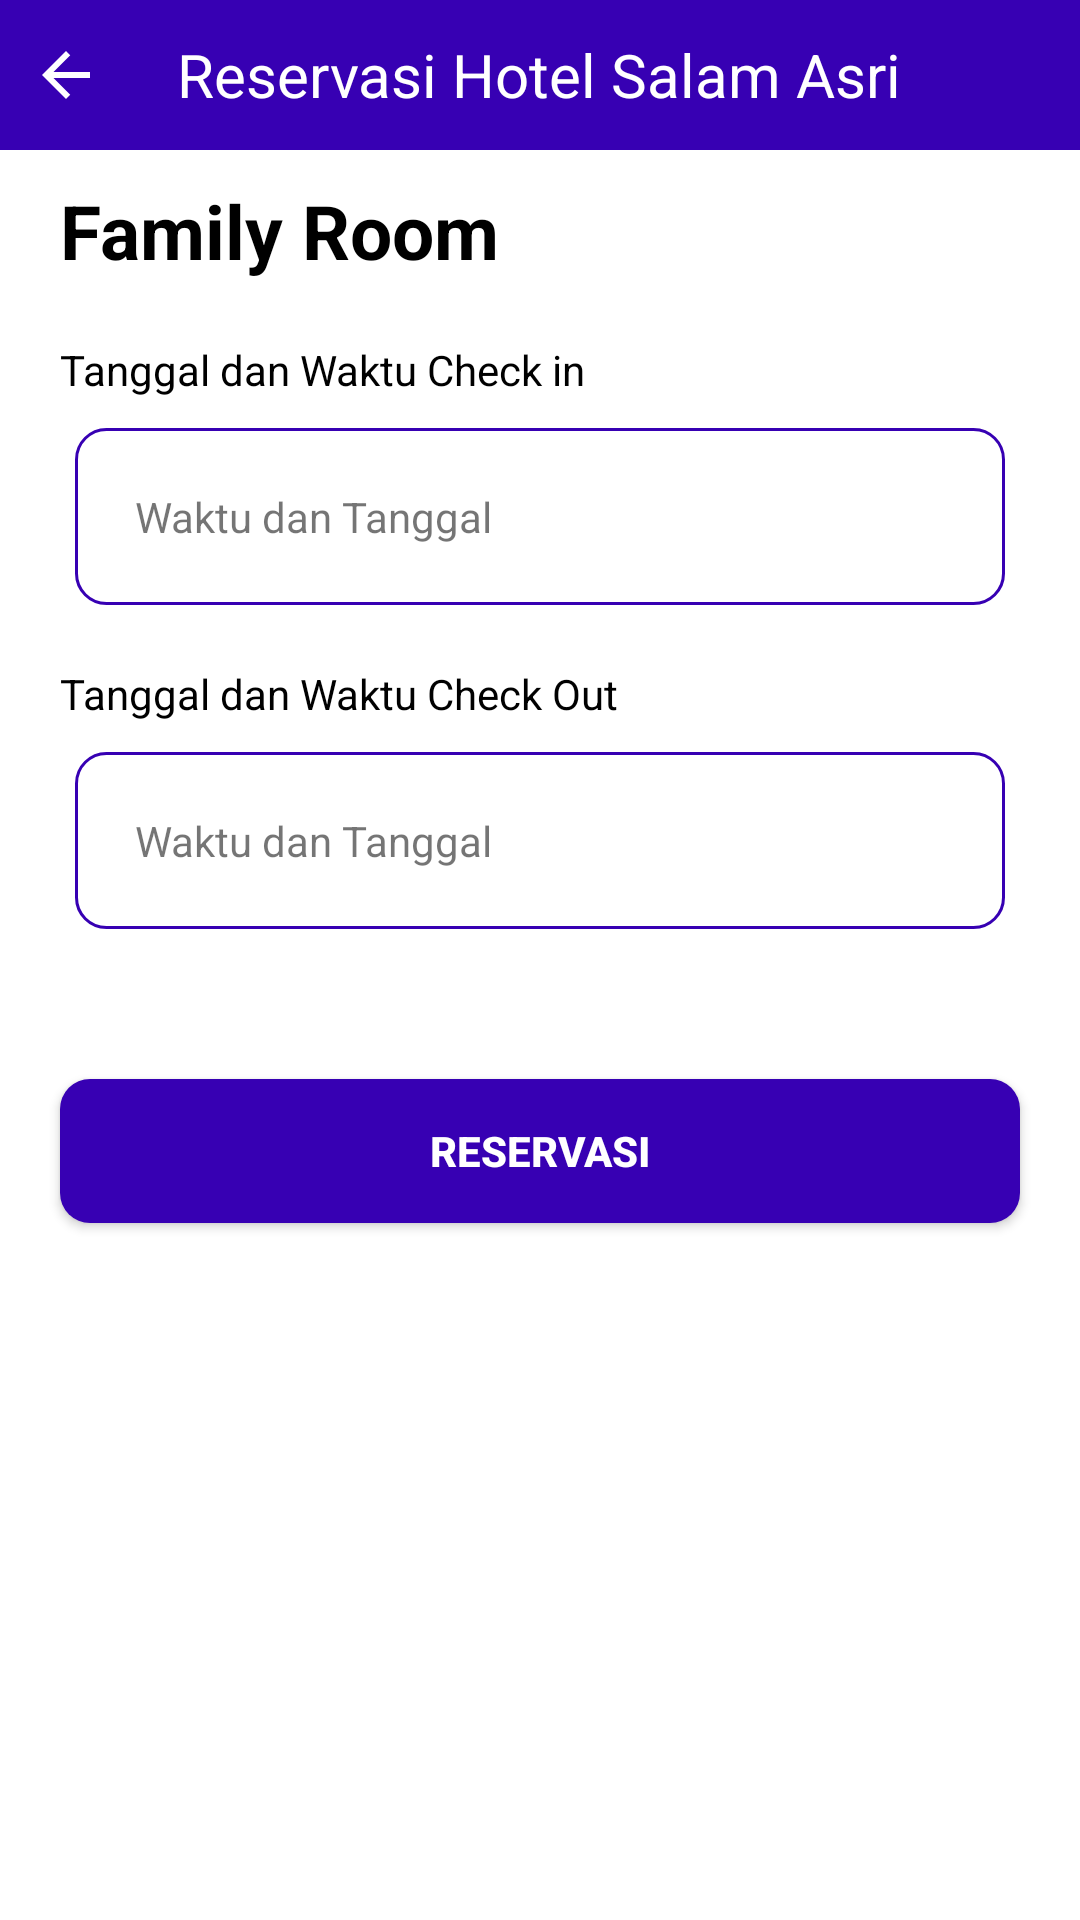

Locate icon controls on the screen. Image size 1080×1920, boxes as (x1, y1, x2, y2).
arrow back: (42, 51, 90, 99)
